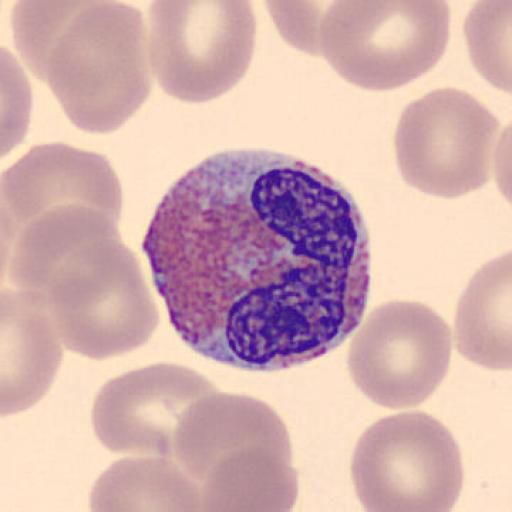RBC: (173, 390, 298, 511), (44, 0, 152, 137), (6, 204, 119, 332), (88, 360, 222, 466), (1, 140, 124, 254), (48, 239, 161, 362), (317, 0, 452, 93), (345, 297, 453, 411), (392, 85, 498, 201), (348, 409, 466, 512), (146, 0, 259, 106), (10, 0, 144, 85), (1, 287, 63, 418), (452, 248, 512, 374), (261, 0, 382, 56), (197, 445, 298, 512), (87, 455, 205, 512), (462, 1, 512, 95), (1, 44, 33, 162), (490, 119, 512, 209)
WBC: (142, 156, 374, 372)
